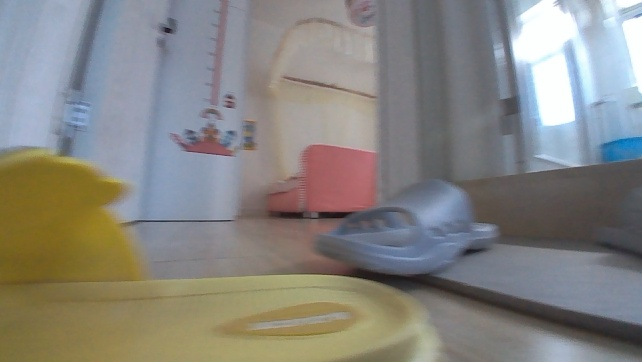bed1: (264, 139, 379, 220)
door_anno: (469, 0, 598, 173)
slipper: (0, 141, 446, 361), (310, 169, 499, 280)
